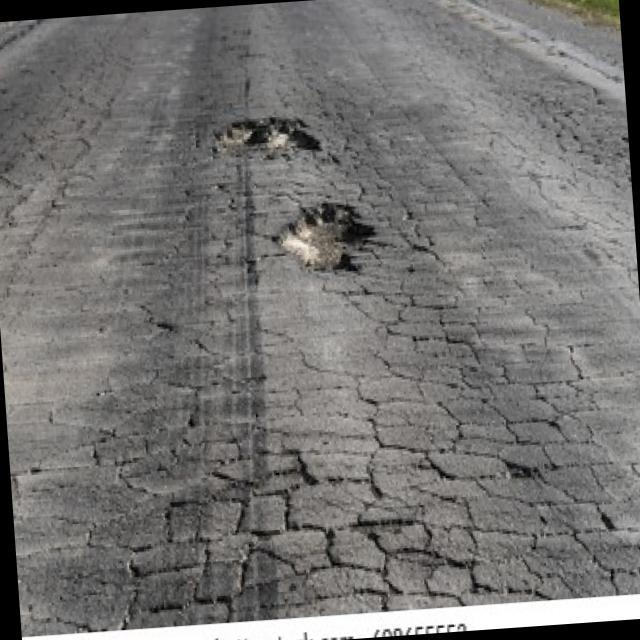Pothole: (271, 194, 378, 278), (208, 112, 322, 158)
